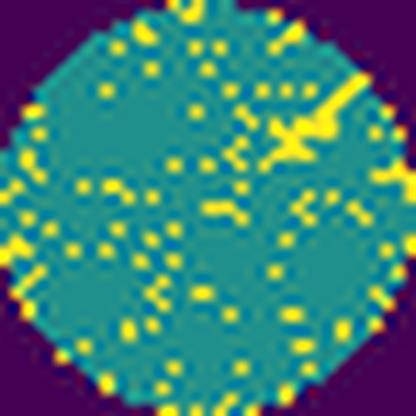Scratch: (257, 70, 370, 176)
